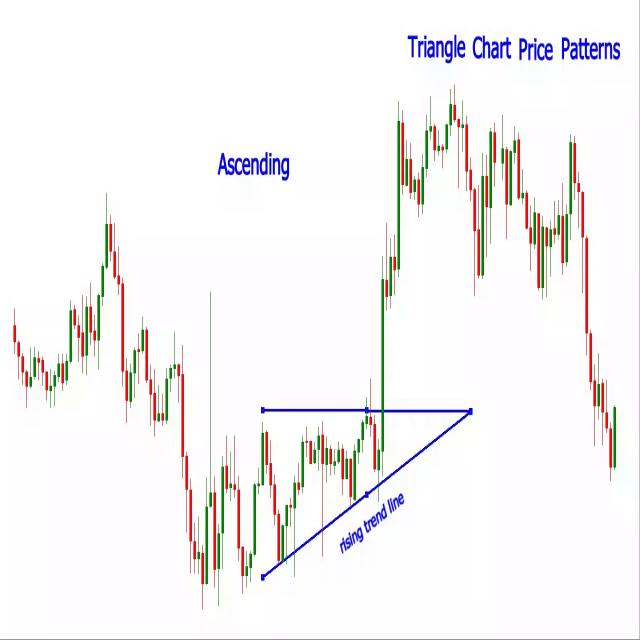Ascending-Triangle: (238, 418, 453, 594)
